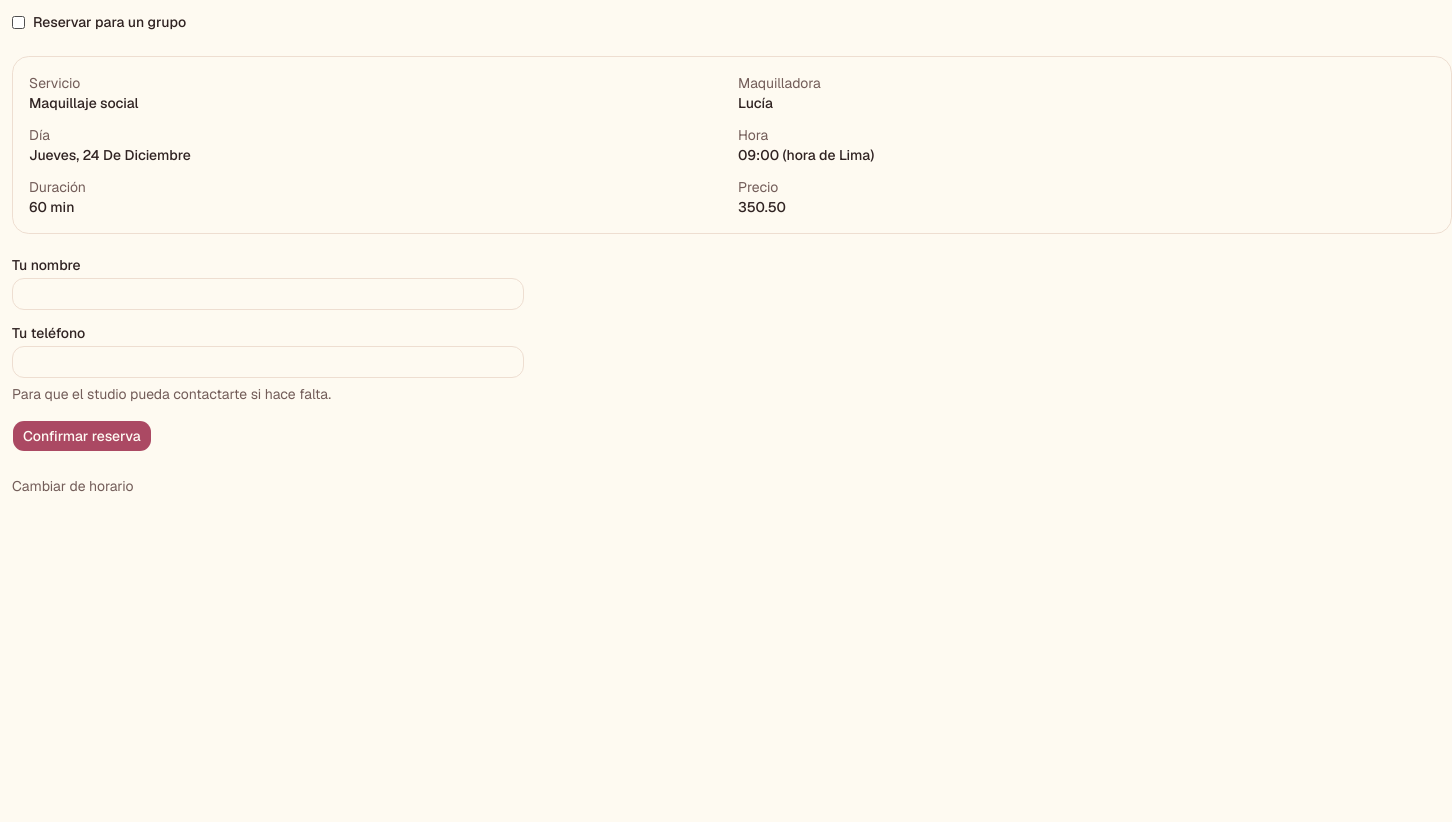
Test case: respuestas del servidor › si el servicio o la maquilladora ya no están, manda al catálogo
Click the button "Confirmar reserva". click: (82,436)
box: [12,420,152,452]
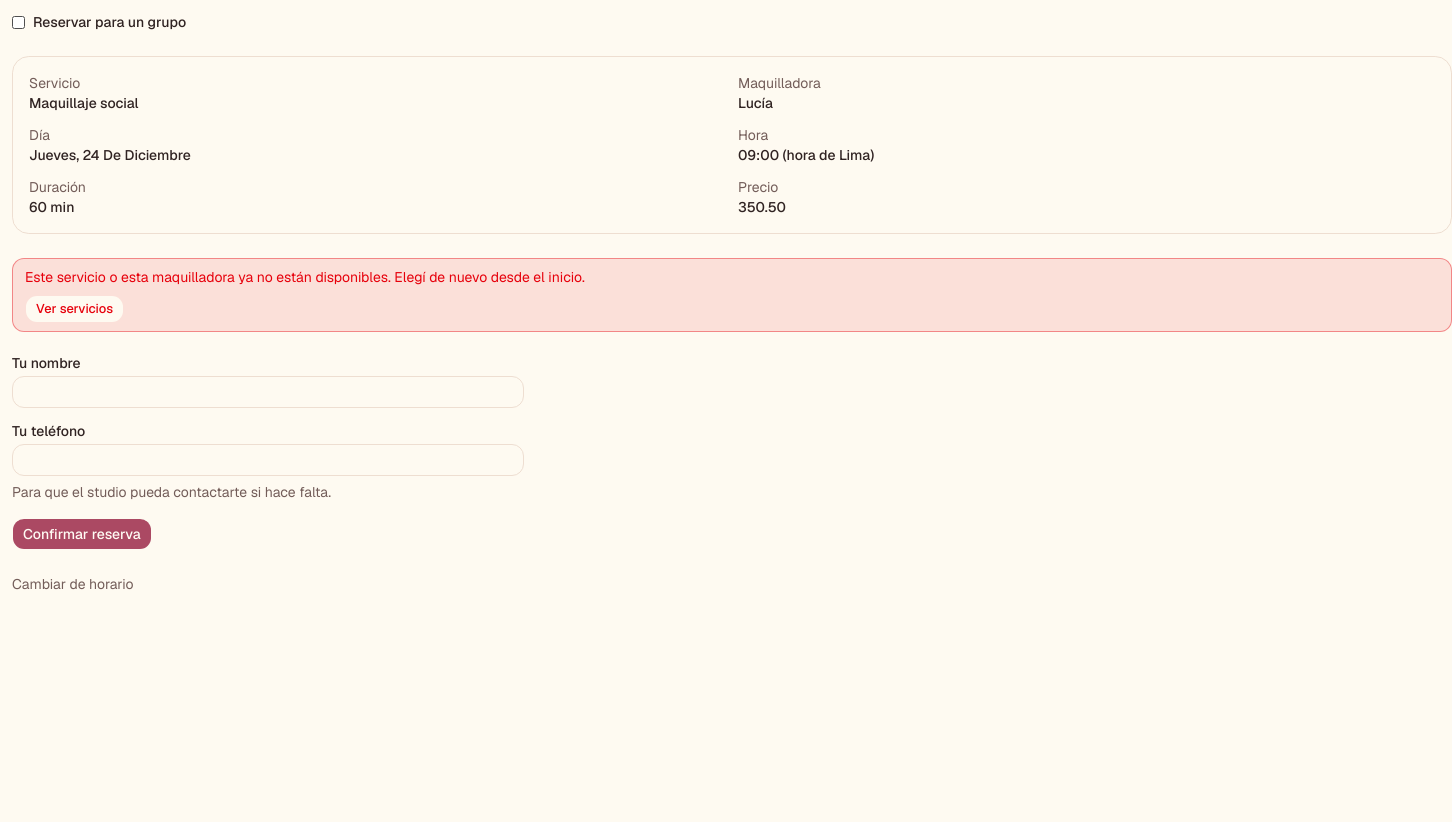
Result: the message shows "ya no están disponibles" at [25,268,585,286]
